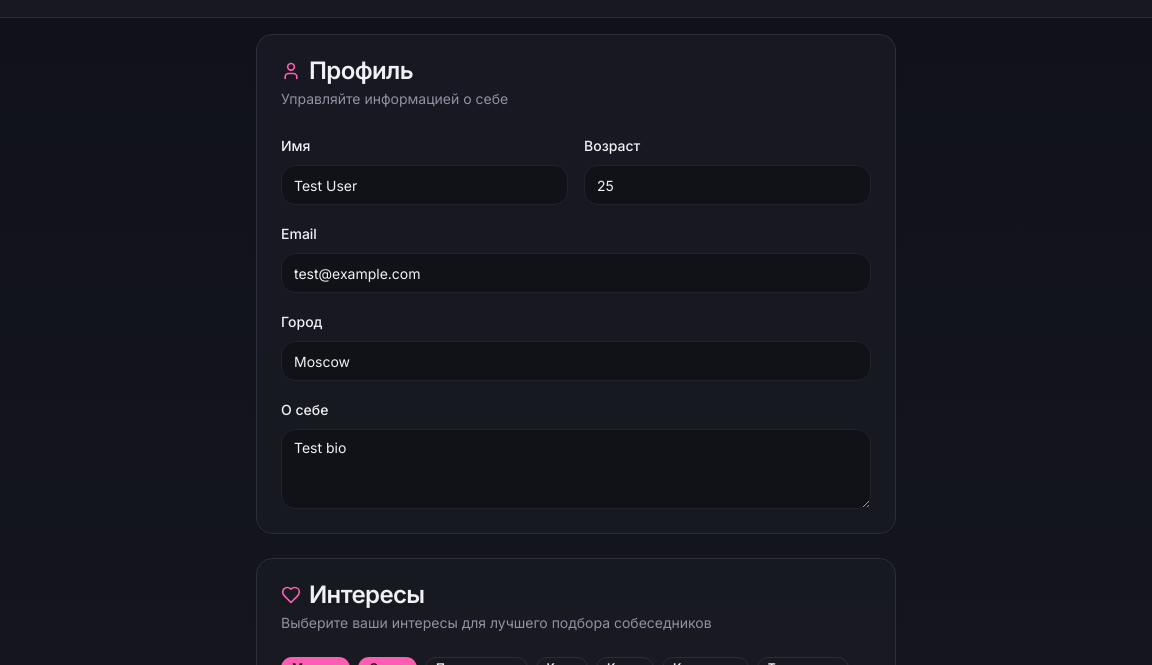
Scenario: Settings Component › handles save error
# Сначала нужно внести изменения, чтобы кнопка стала активной
Replace the text in the field labelled "Имя" with "Updated Name": (424, 185) [281,165,568,205]
(page scrolled)
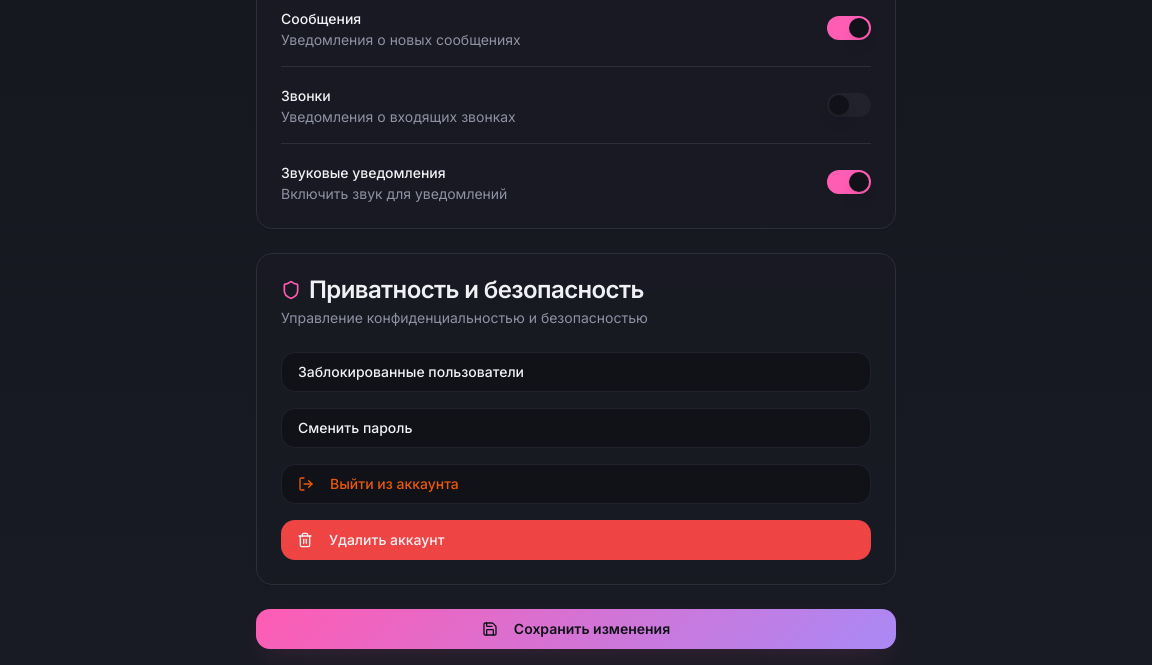
Click the button "Сохранить изменения": (576, 629) [256,609,896,649]
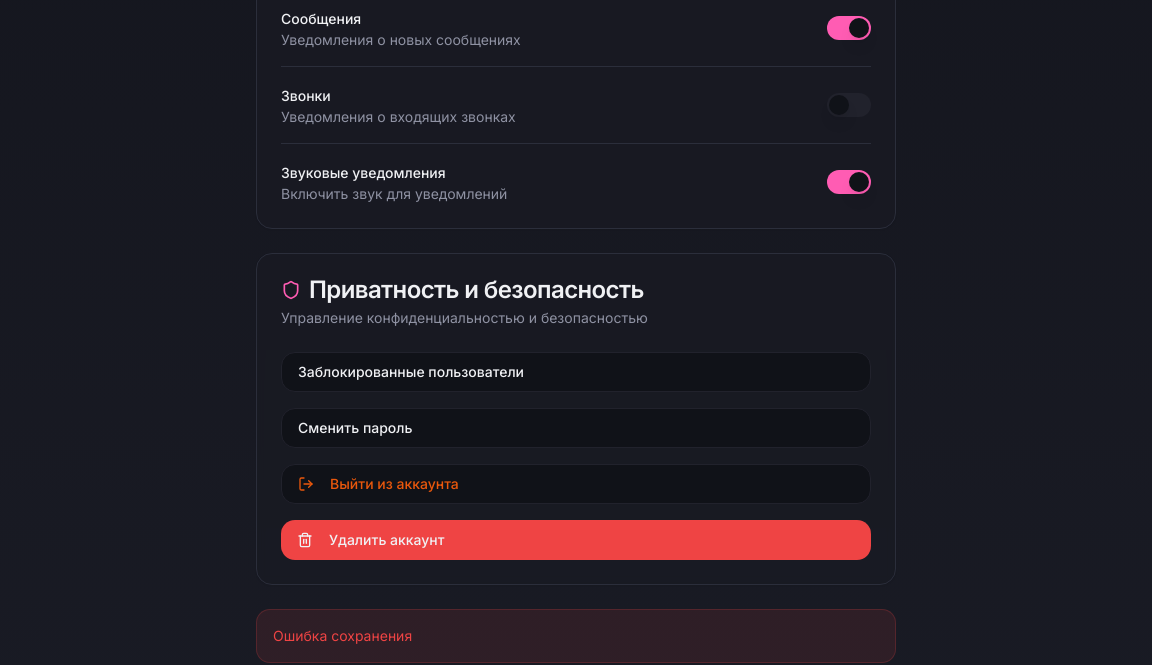
expect the text "Ошибка сохранения" is shown: met, box [256,609,896,663]
